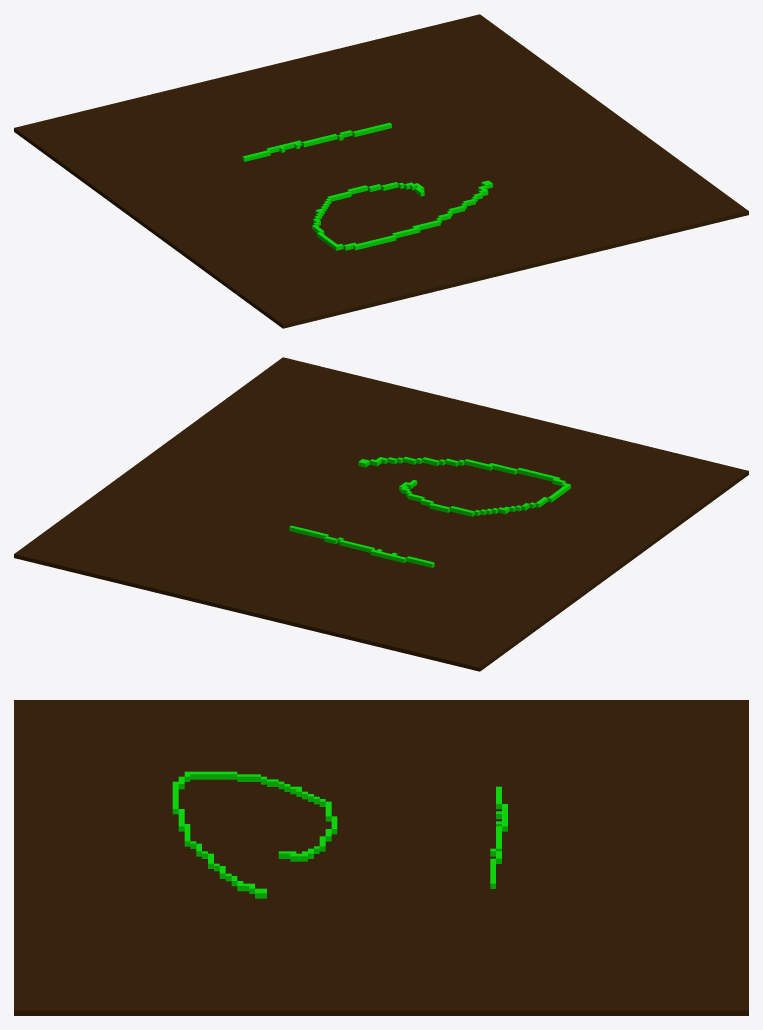
The model's file is Level01-9.obj.
The picture shows the model from 3 angles, top to bottom: view 1: azimuth 30°, elevation 25°; view 2: azimuth 150°, elevation 25°; view 3: azimuth 270°, elevation 25°; orthographic projection. The views are drawn at different scales.
Parts seen in each view (by area): view 1: Level01-9; view 2: Level01-9; view 3: Level01-9.
Part boxes in pixels (box(x1,y1,x2,y2)): Level01-9: box(14, 14, 748, 328); Level01-9: box(14, 357, 748, 671); Level01-9: box(14, 700, 748, 1015).
Bounding box in the file's own units: 125 × 2 × 125.
Materials: 1 (1 with a texture image).
